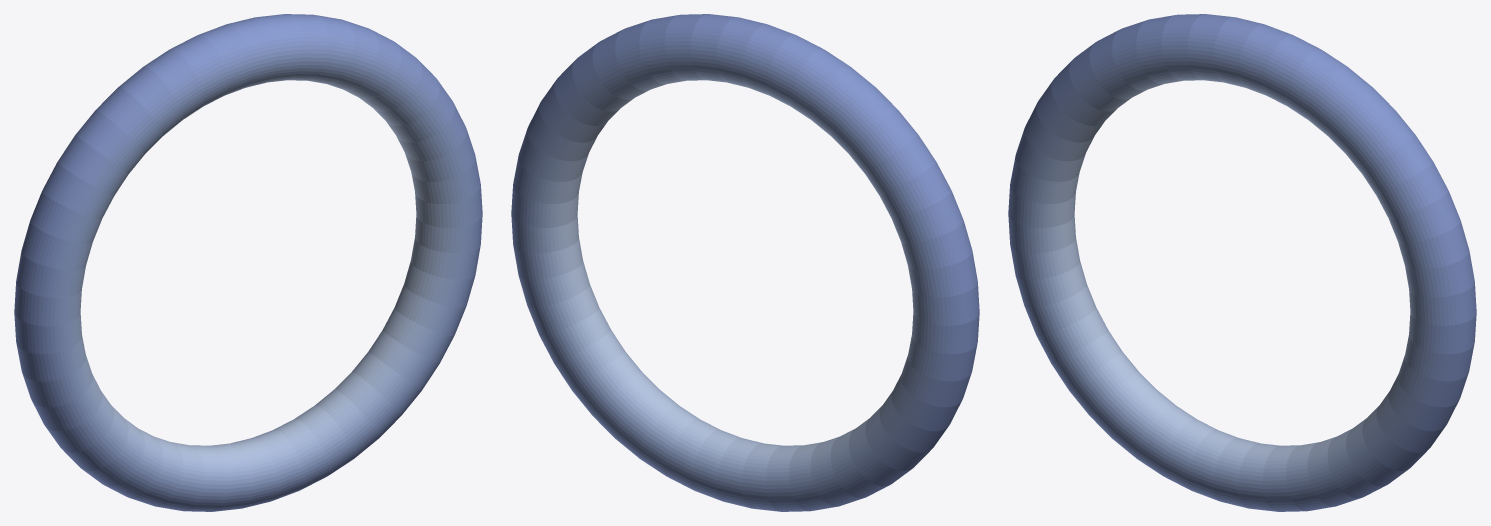
The picture shows the model from 3 angles, left to right: view 1: azimuth 30°, elevation 25°; view 2: azimuth 150°, elevation 25°; view 3: azimuth 330°, elevation 25°; orthographic projection.
Visible parts, largest first — view 1: world; view 2: world; view 3: world.
Boxes of the visible parts, x1,y1,x2,y2 form: world: [14, 14, 482, 511]; world: [511, 14, 979, 511]; world: [1008, 14, 1476, 511].
Bounding box in the file's own units: 26.67 × 26.61 × 3.33.
